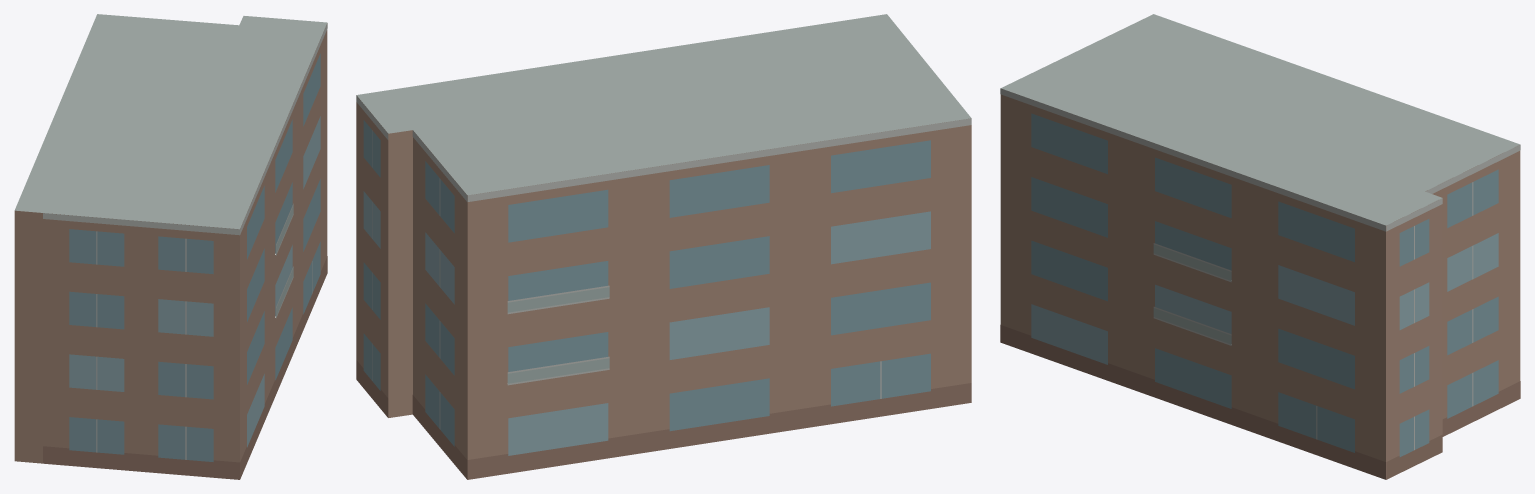
The model's file is survey-upis-32916664.glb.
The picture shows the model from 3 angles, left to right: view 1: azimuth 30°, elevation 25°; view 2: azimuth 150°, elevation 25°; view 3: azimuth 270°, elevation 25°; orthographic projection. The views are drawn at different scales.
Parts seen in each view (by area): view 1: survey-upis-32916664.tmp; view 2: survey-upis-32916664.tmp; view 3: survey-upis-32916664.tmp.
Boxes of the visible parts, bbox=[...] form: survey-upis-32916664.tmp: bbox=[14, 14, 327, 479]; survey-upis-32916664.tmp: bbox=[356, 14, 971, 479]; survey-upis-32916664.tmp: bbox=[1000, 14, 1520, 479].
Size of the model in its own units: 18.31 by 10.25 by 19.
